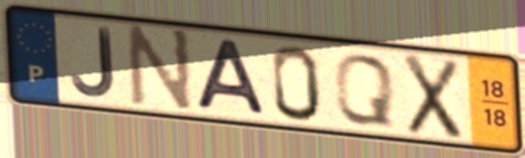0: (268, 42, 325, 123)
A: (191, 37, 271, 119)
J: (68, 25, 118, 100)
N: (127, 22, 194, 117)
Q: (332, 51, 397, 129)
X: (400, 51, 464, 143)
